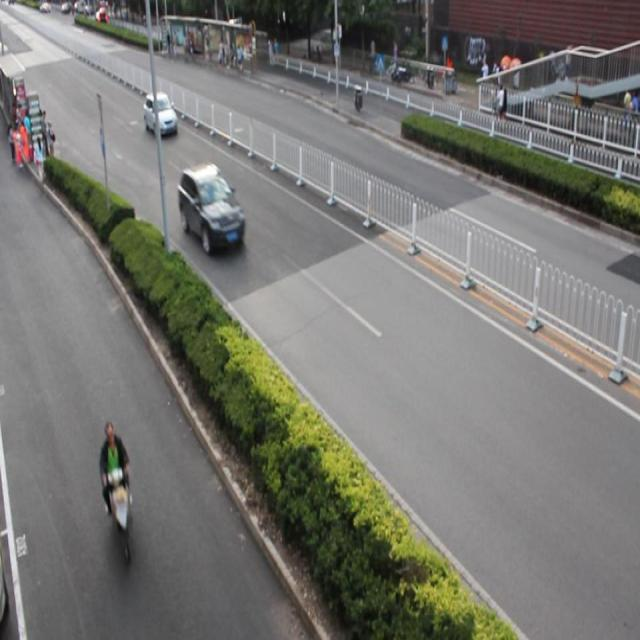car: (178, 164, 243, 253), (143, 93, 178, 137)
